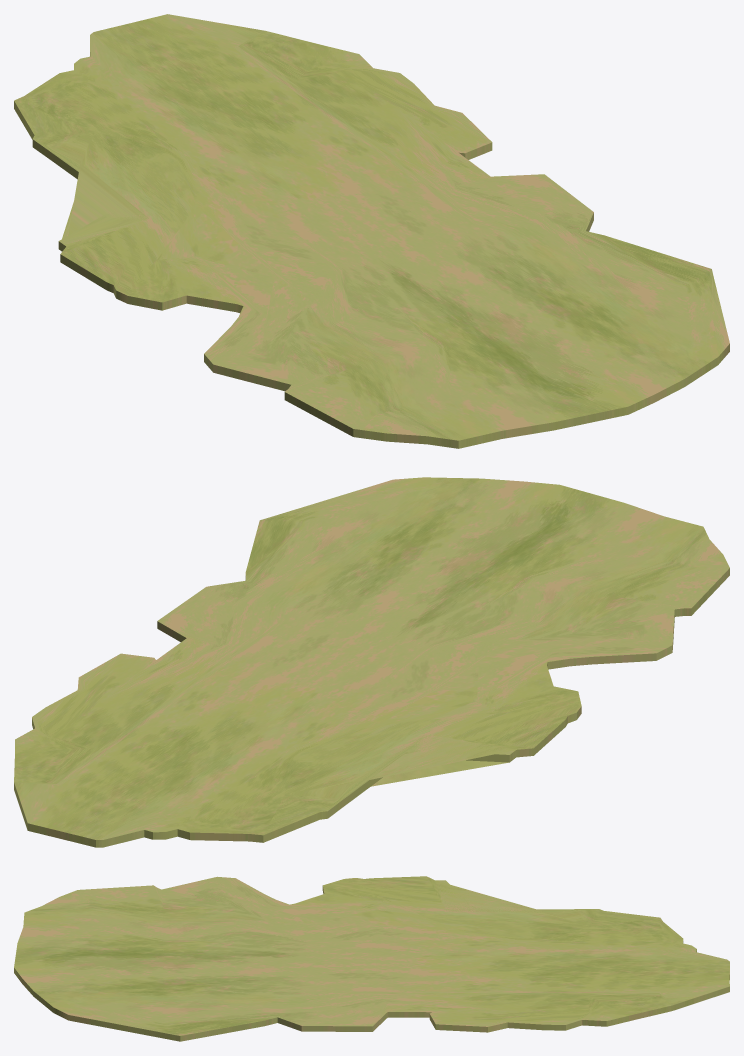
Rendered from 3D baseground.fbx.
3 views of the same model, one above another, from view 1: azimuth 30°, elevation 25°; view 2: azimuth 150°, elevation 25°; view 3: azimuth 270°, elevation 25° (orthographic). The views are drawn at different scales.
Visible parts, largest first — view 1: pPlane1; view 2: pPlane1; view 3: pPlane1.
Boxes of the visible parts, box(x1,y1,x2,y2) form: pPlane1: box(14, 14, 729, 448); pPlane1: box(14, 477, 729, 847); pPlane1: box(14, 876, 729, 1041).
Size of the model in its own units: 14.59 by 0.2403 by 27.63.
